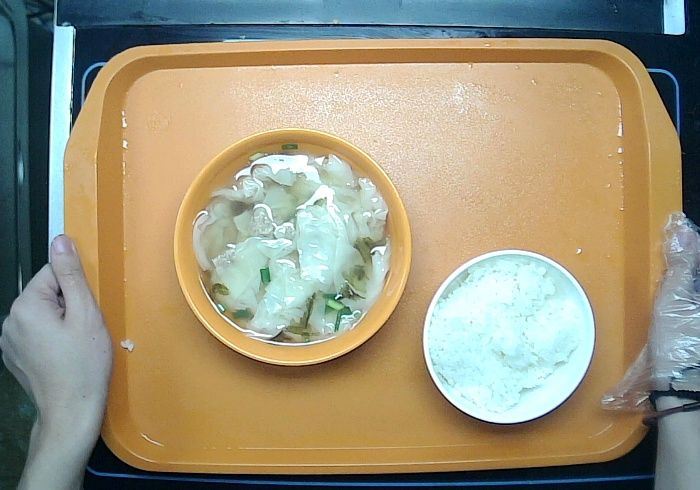NLDX-Fan_Wan: (422, 249, 595, 424)
NLDX-Hun_Tun_Wan: (171, 126, 413, 366)
